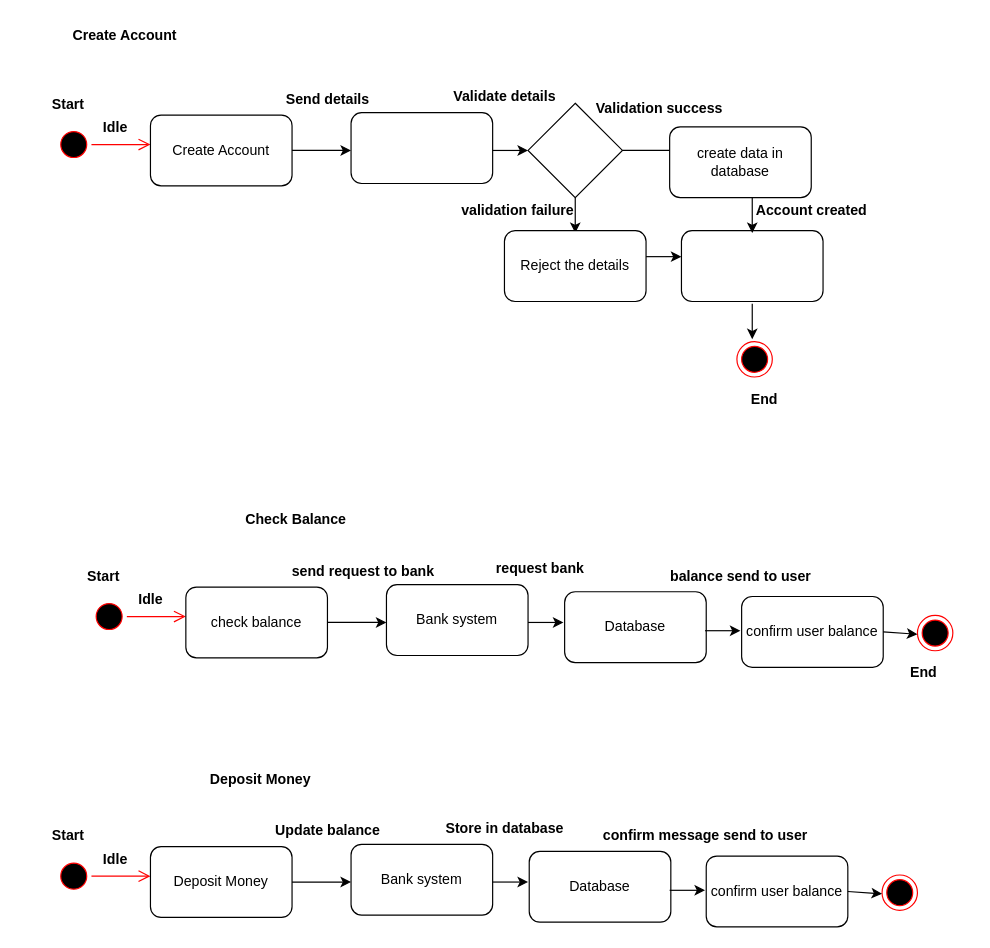
Image size: 990x948. Some labels were removed from this diagram. The centre of each missing label's shape, as x and y in pixels:
Confirm message to user: point (751, 265)
Is valid ?: point (574, 150)
Validation: point (421, 147)
